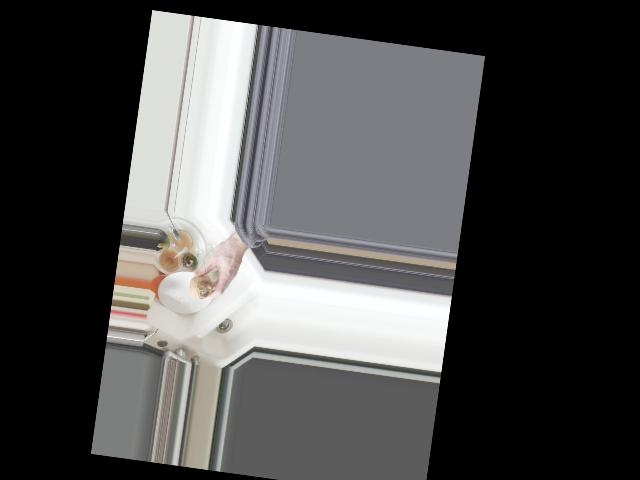sweet_potato: (186, 267, 216, 302)
